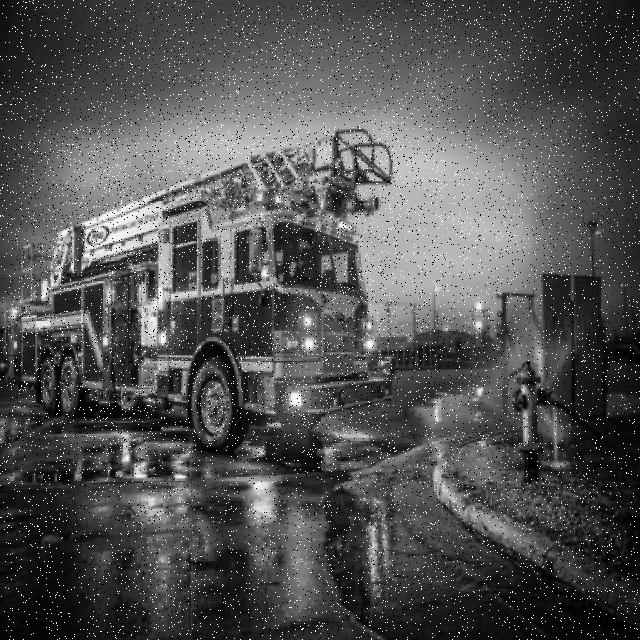Fire Truck: (20, 129, 398, 455)
